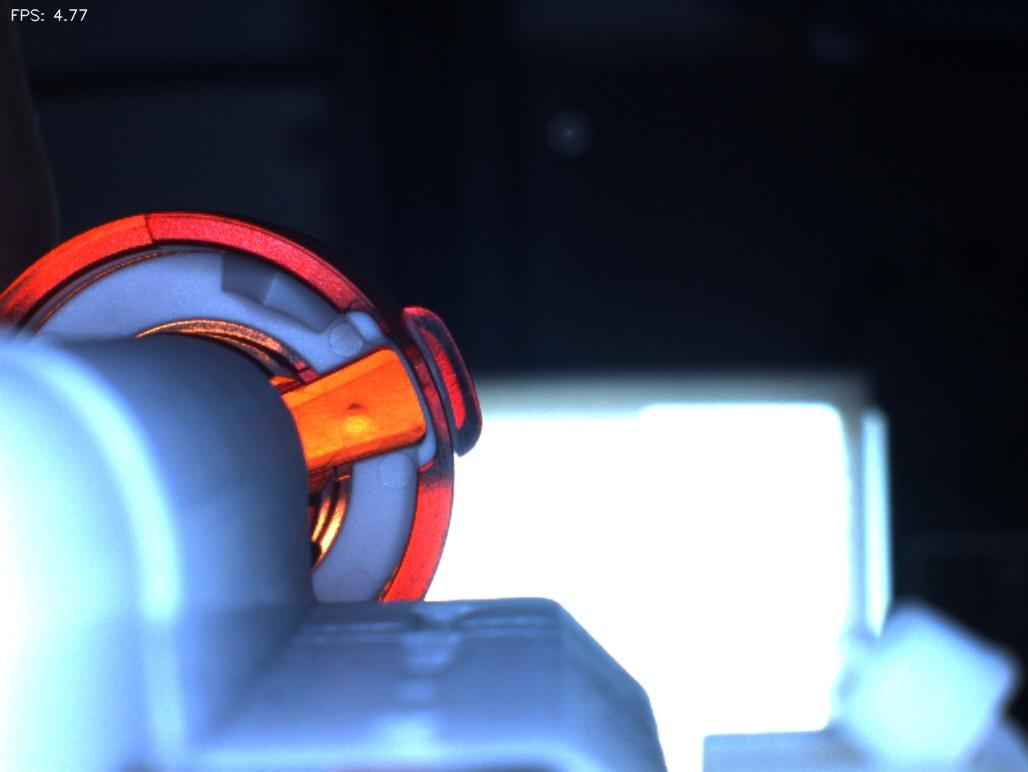Retassure: (316, 385, 396, 453)
